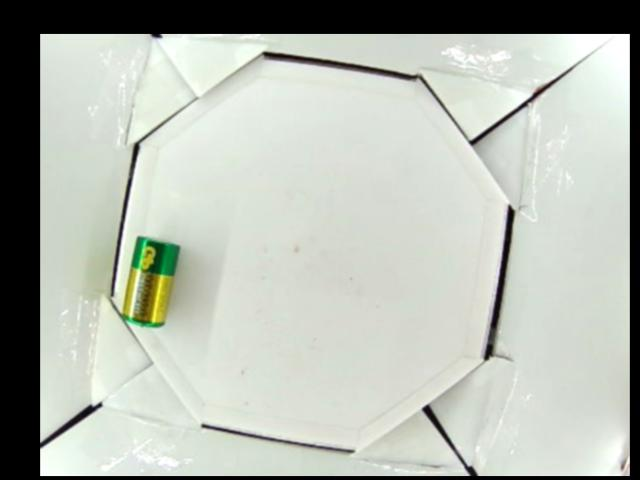Battery: (119, 235, 181, 327)
